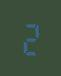two: (19, 20, 40, 55)
